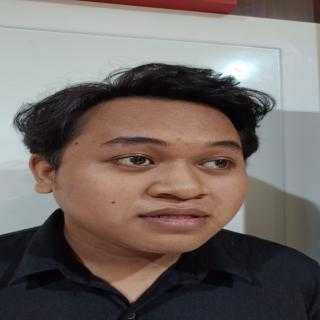Takut: (63, 94, 264, 267)
